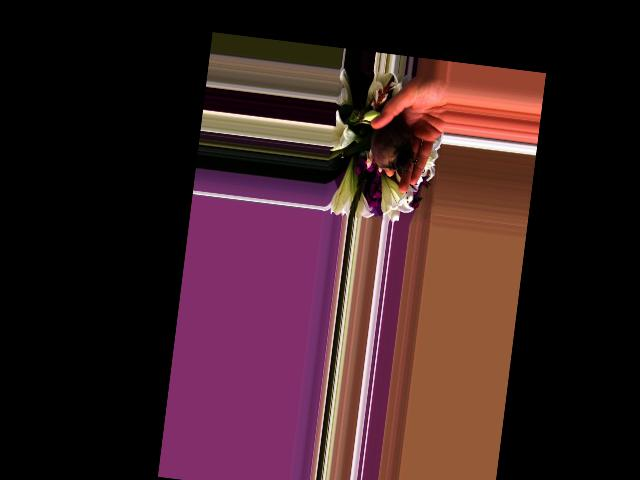beet: (347, 112, 417, 174)
